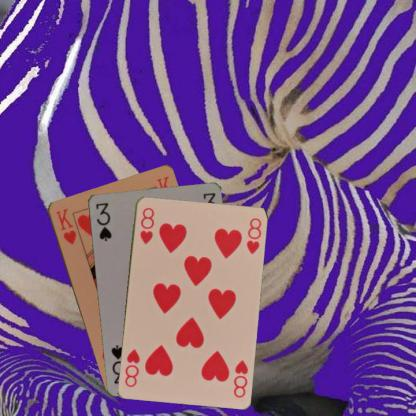3s: (93, 200, 113, 243)
8h: (231, 356, 249, 399), (137, 205, 155, 245)
Kh: (52, 206, 78, 246)
